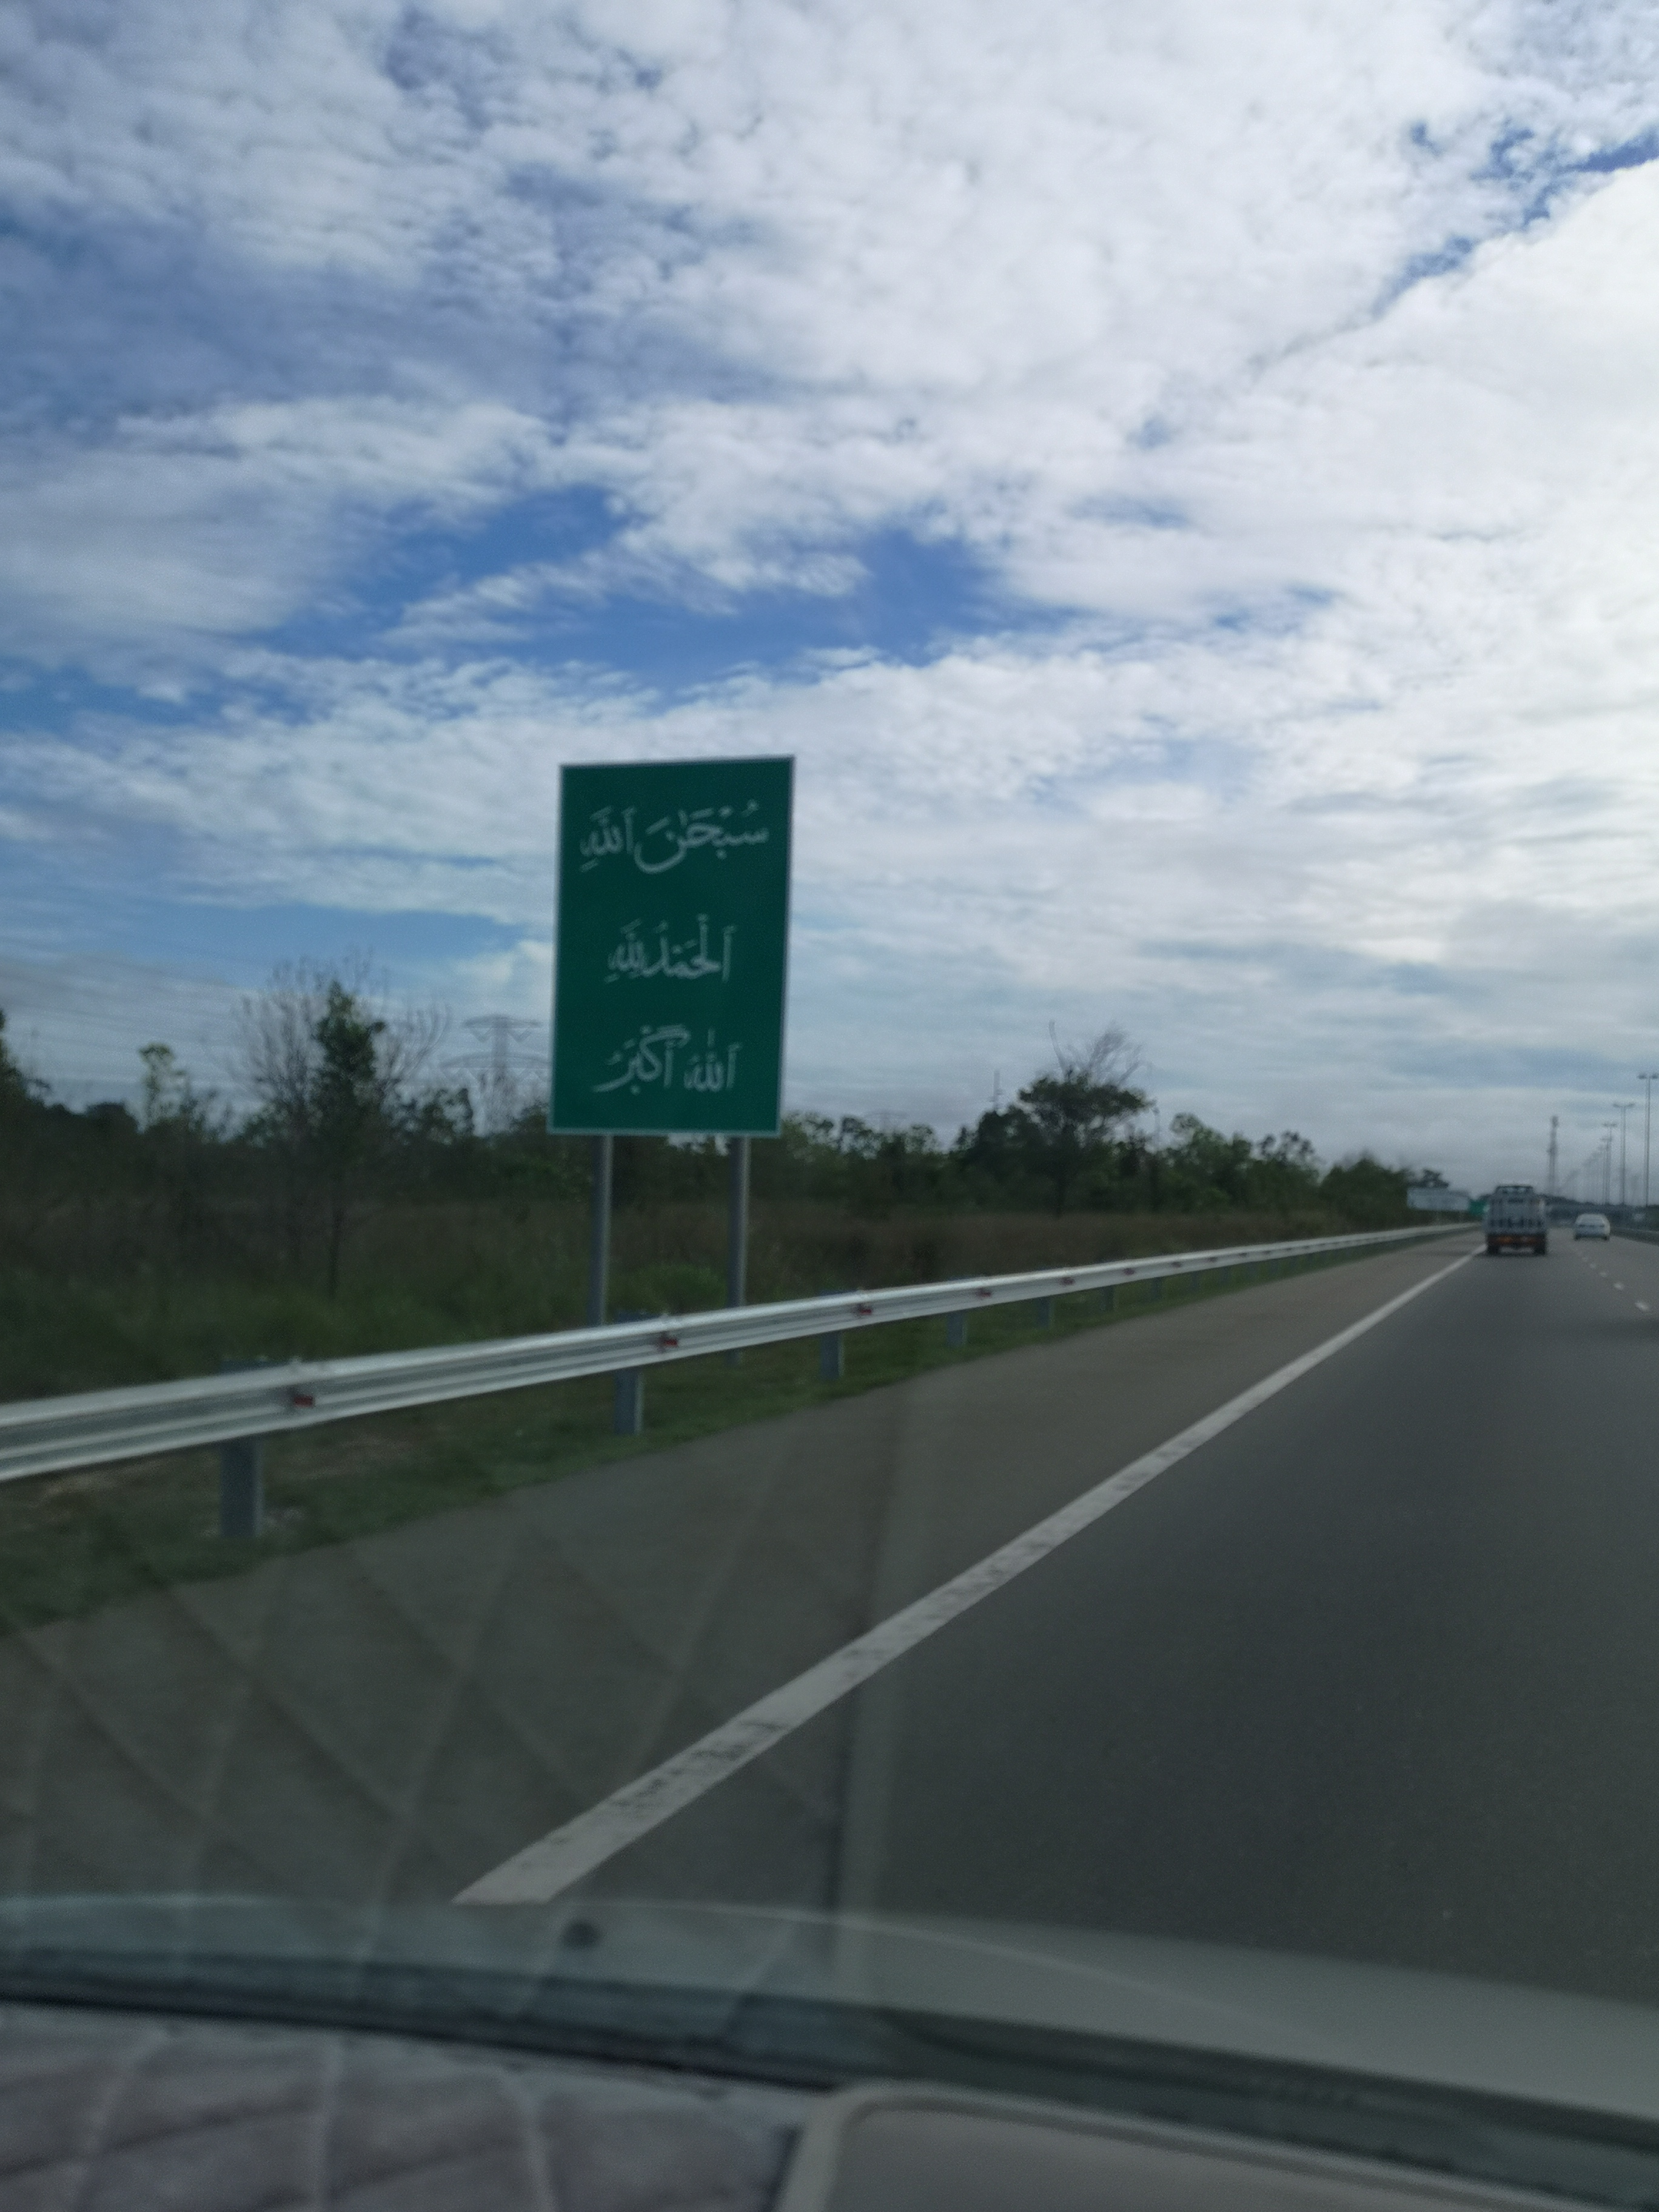All praise belong to Allah: (556, 907, 795, 1005)
Allah is free from Imperfection: (552, 773, 802, 897)
Allah is the Greatest: (547, 1012, 784, 1120)
